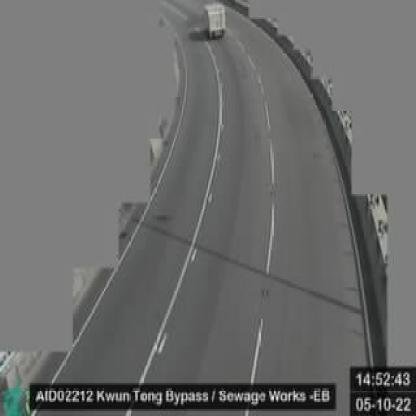Car: (203, 4, 225, 36)
